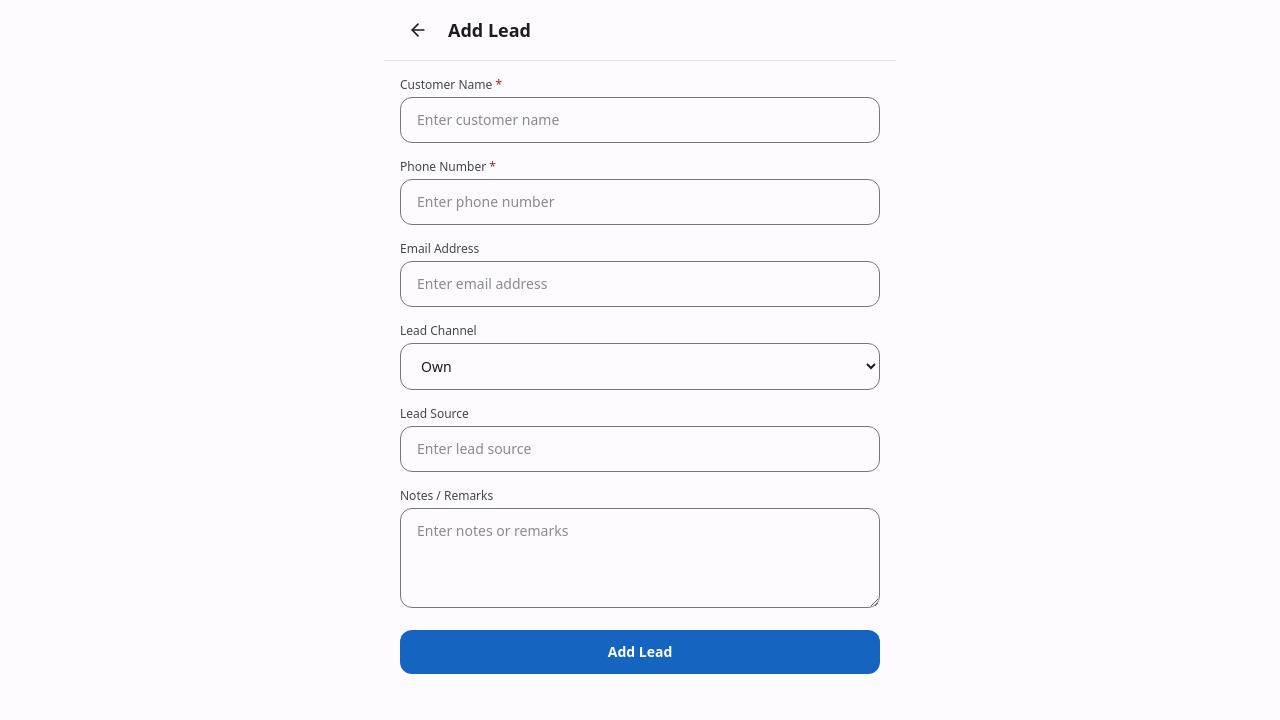
AddLeadContent › shows discard dialog when navigating back with dirty form
Type "Dirty" into the field with placeholder "Enter customer name" at (640, 120), box [400,97,880,143]
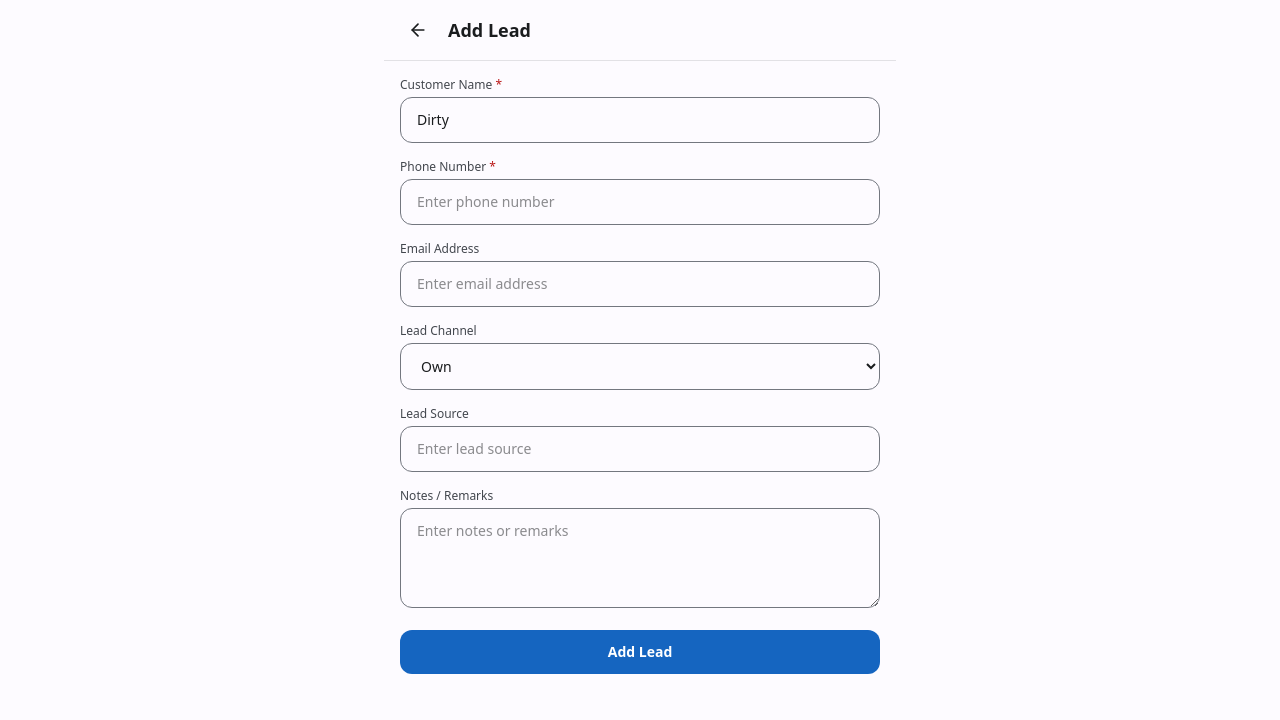
Click the button named "Back" at (418, 30), box [400,12,436,48]
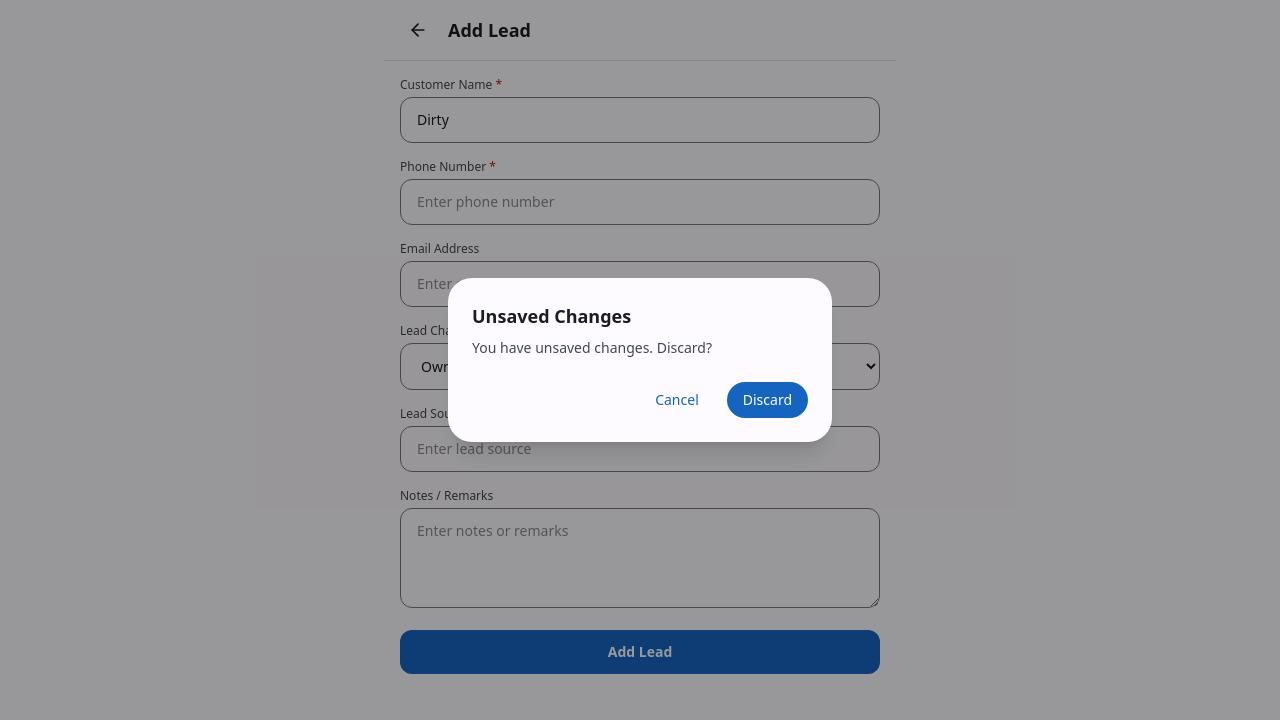
Expected: the heading "Unsaved Changes" is shown, [472,304,631,328]
